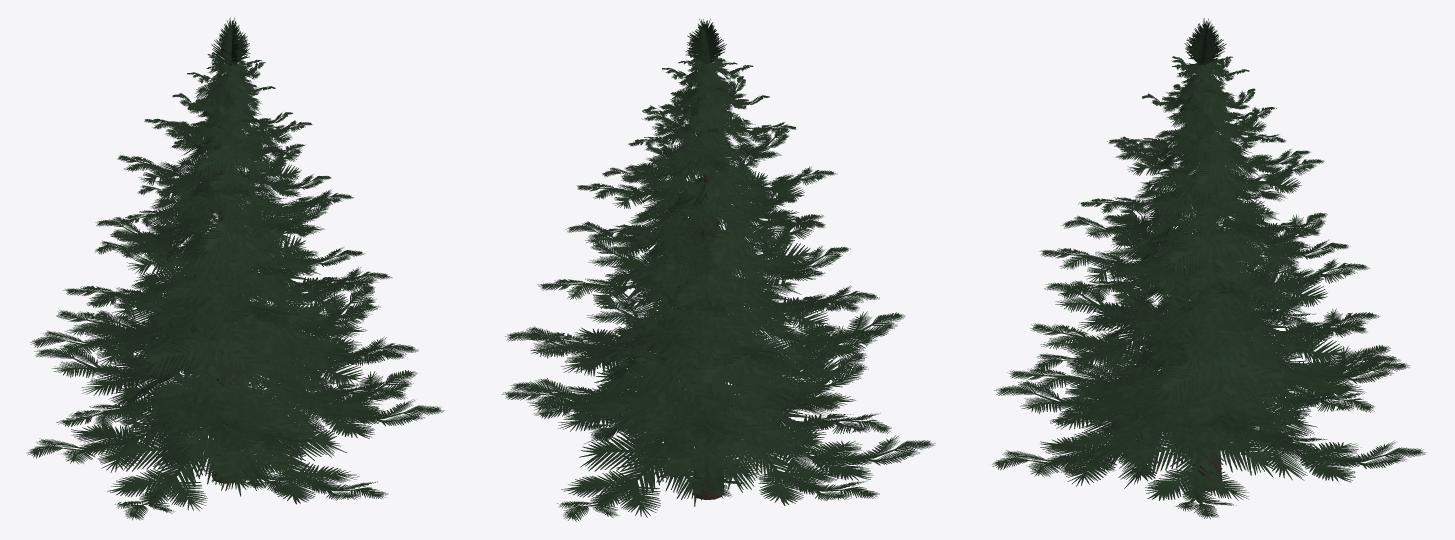
File: pine_tree.glb
3 renders of one model, left to right at view 1: azimuth 30°, elevation 25°; view 2: azimuth 150°, elevation 25°; view 3: azimuth 270°, elevation 25°, orthographic. The views are drawn at different scales.
Visible parts, largest first — view 1: Branch_04 (×5), Branch_08, Branch_22, Branch_06, Branch_12, Branch_09, Branch_15, Branch_21, Branch_05, Branch_34, Branch_14, Branch_16 (+34 smaller); view 2: Branch_04 (×7), Branch_24, Branch_11, Branch_21, Branch_12, Branch_37, Branch_08, Branch_28, Branch_16, Branch_30, Branch_38, Branch_33 (+29 smaller); view 3: Branch_04 (×6), Branch_23, Branch_10, Branch_22, Branch_05, Branch_11, Branch_36, Branch_24, Branch_26, Branch_09, Branch_07, Branch_20 (+35 smaller).
Boxes of the visible parts, x1=… form: Branch_04 (×5): x1=34, y1=213, x2=392, y2=458; Branch_08: x1=107, y1=427, x2=250, y2=520; Branch_22: x1=247, y1=301, x2=406, y2=373; Branch_06: x1=171, y1=379, x2=324, y2=494; Branch_12: x1=26, y1=395, x2=205, y2=473; Branch_09: x1=227, y1=426, x2=388, y2=504; Branch_15: x1=156, y1=369, x2=295, y2=447; Branch_21: x1=30, y1=302, x2=186, y2=371; Branch_05: x1=278, y1=373, x2=444, y2=438; Branch_34: x1=196, y1=217, x2=299, y2=277; Branch_14: x1=254, y1=368, x2=407, y2=423; Branch_16: x1=56, y1=379, x2=206, y2=440; Branch_04 (×7): x1=588, y1=143, x2=905, y2=498; Branch_24: x1=582, y1=356, x2=731, y2=442; Branch_11: x1=557, y1=431, x2=713, y2=521; Branch_21: x1=690, y1=321, x2=839, y2=413; Branch_12: x1=713, y1=403, x2=879, y2=505; Branch_37: x1=604, y1=220, x2=720, y2=289; Branch_08: x1=767, y1=420, x2=935, y2=482; Branch_28: x1=628, y1=302, x2=754, y2=358; Branch_16: x1=721, y1=383, x2=891, y2=451; Branch_30: x1=725, y1=274, x2=859, y2=329; Branch_38: x1=651, y1=215, x2=762, y2=317; Branch_33: x1=706, y1=222, x2=825, y2=285; Branch_04 (×6): x1=1007, y1=158, x2=1390, y2=426; Branch_23: x1=1149, y1=344, x2=1293, y2=438; Branch_10: x1=1120, y1=421, x2=1282, y2=519; Branch_22: x1=1034, y1=296, x2=1188, y2=379; Branch_05: x1=1054, y1=389, x2=1215, y2=475; Branch_11: x1=1251, y1=413, x2=1425, y2=482; Branch_36: x1=1160, y1=220, x2=1268, y2=299; Branch_24: x1=1239, y1=334, x2=1410, y2=396; Branch_26: x1=1197, y1=276, x2=1315, y2=332; Branch_09: x1=992, y1=414, x2=1163, y2=488; Branch_07: x1=1188, y1=397, x2=1327, y2=458; Branch_20: x1=1104, y1=369, x2=1236, y2=433.
Size of the model in its own units: 0.7116 by 0.7927 by 0.7059.
Materials: 2 (1 with a texture image).
